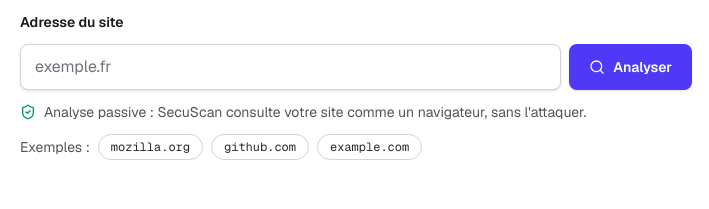
Test: ScanForm › efface l'erreur dès que la saisie est corrigée
The image size is (709, 209).
Click the button "Analyser" at (631, 67), box [569,44,692,90]
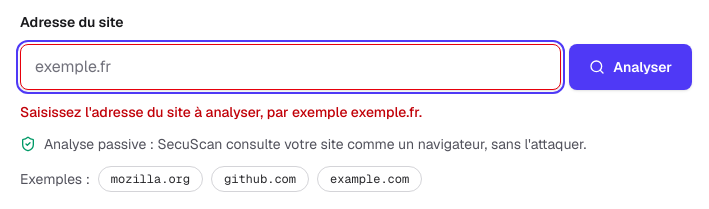
Expected: the message "Saisissez l'adresse du site à analyser, par exemple exemple.fr." is shown, [20,103,422,121]
Type "e" into the field labelled "Adresse du site" at (291, 67), box [20,44,561,90]
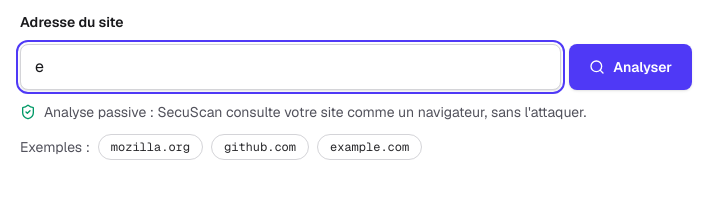
Expected: the message "Saisissez l'adresse du site à analyser, par exemple exemple.fr." is gone
